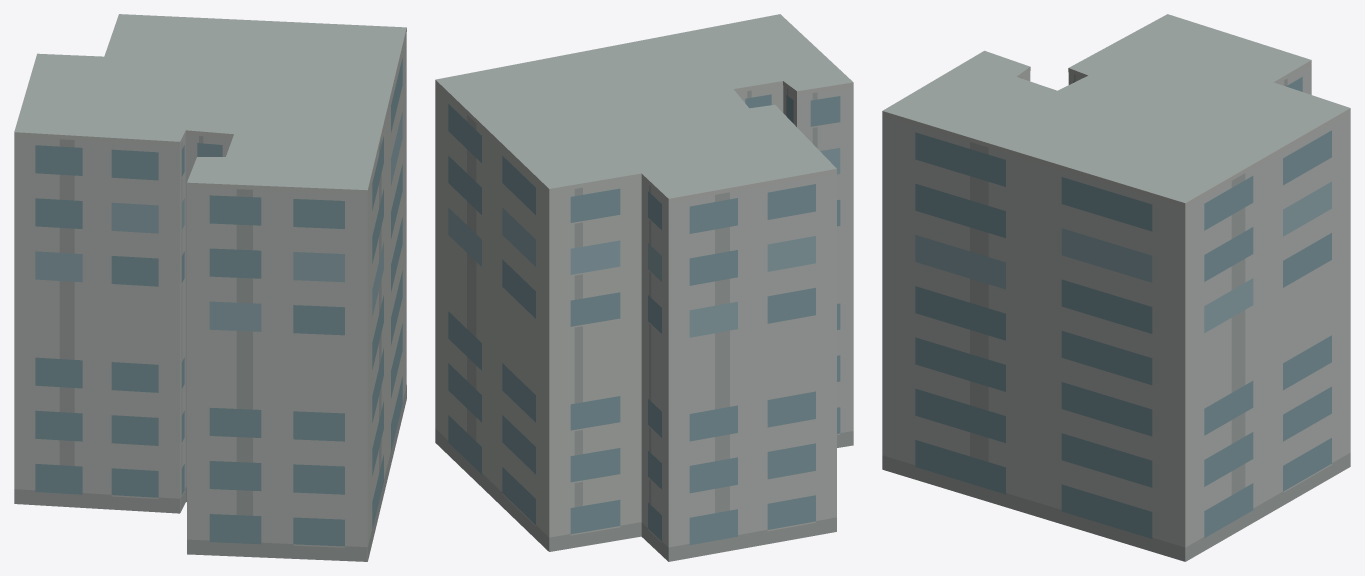
File: survey-upis-32635528.glb
The picture shows the model from 3 angles, left to right: view 1: azimuth 30°, elevation 25°; view 2: azimuth 150°, elevation 25°; view 3: azimuth 270°, elevation 25°; orthographic projection. The views are drawn at different scales.
Visible parts, largest first — view 1: survey-upis-32635528.tmp; view 2: survey-upis-32635528.tmp; view 3: survey-upis-32635528.tmp.
Boxes of the visible parts, <box> form: survey-upis-32635528.tmp: <box>14,14,406,561</box>; survey-upis-32635528.tmp: <box>435,14,853,561</box>; survey-upis-32635528.tmp: <box>882,14,1350,561</box>.
Bounding box in the file's own units: 23.43 × 20.7 × 24.51.
